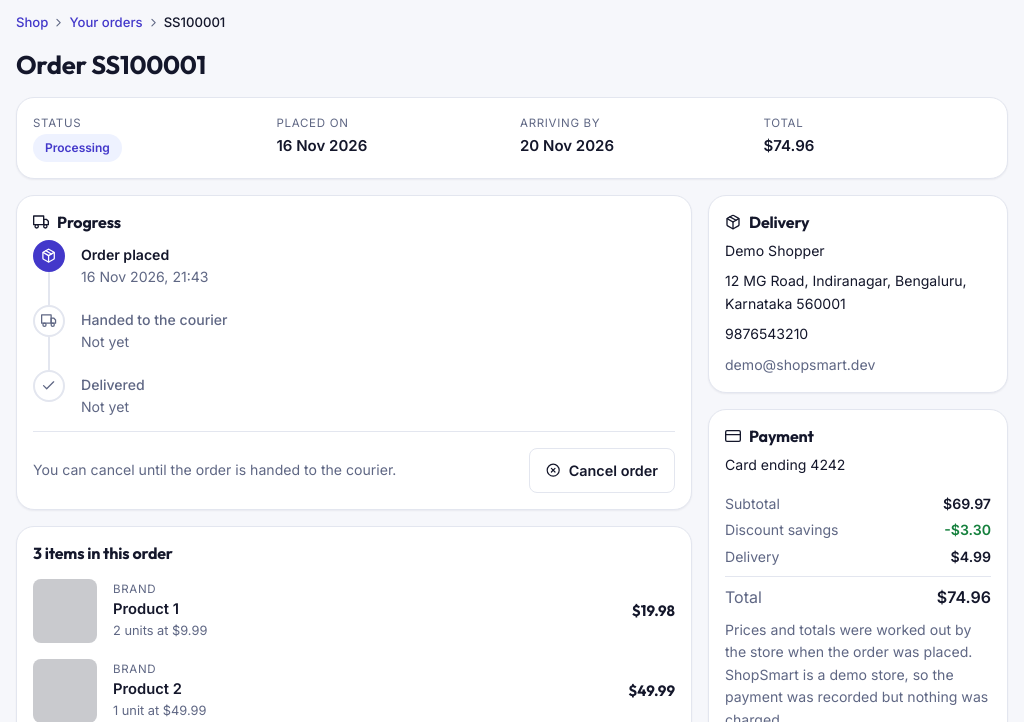
OrderDetails page › shows the order as it is now when it shipped before the cancel arrived
Click the button "Cancel order" at (602, 470), box [529,448,675,493]
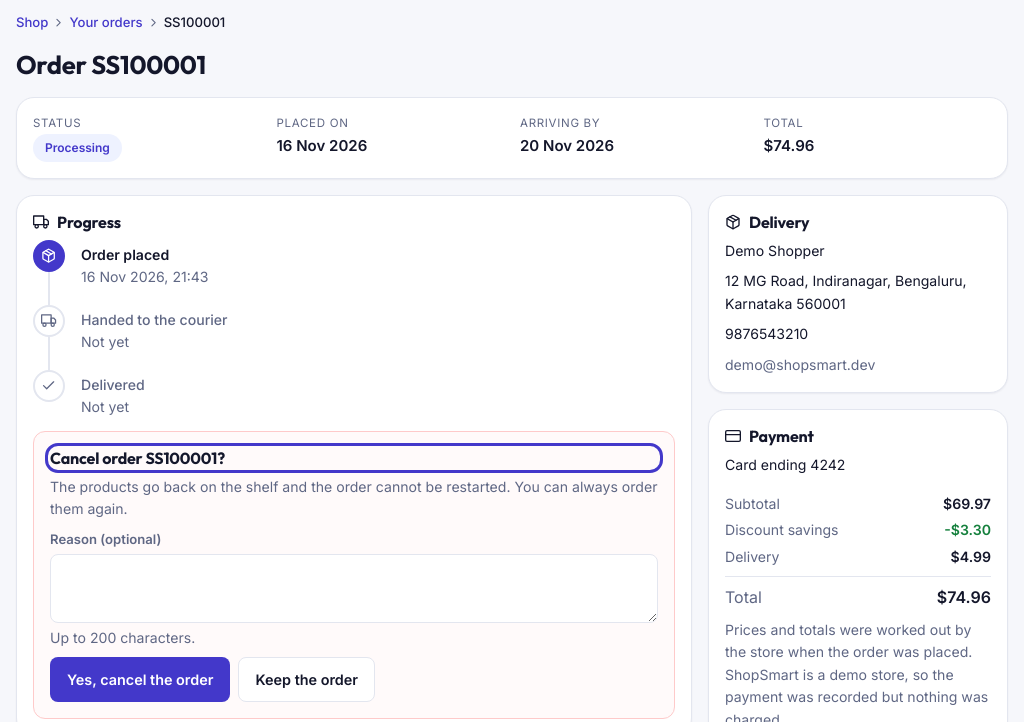
Click the button "Yes, cancel the order" at (140, 680), box [50,657,230,702]
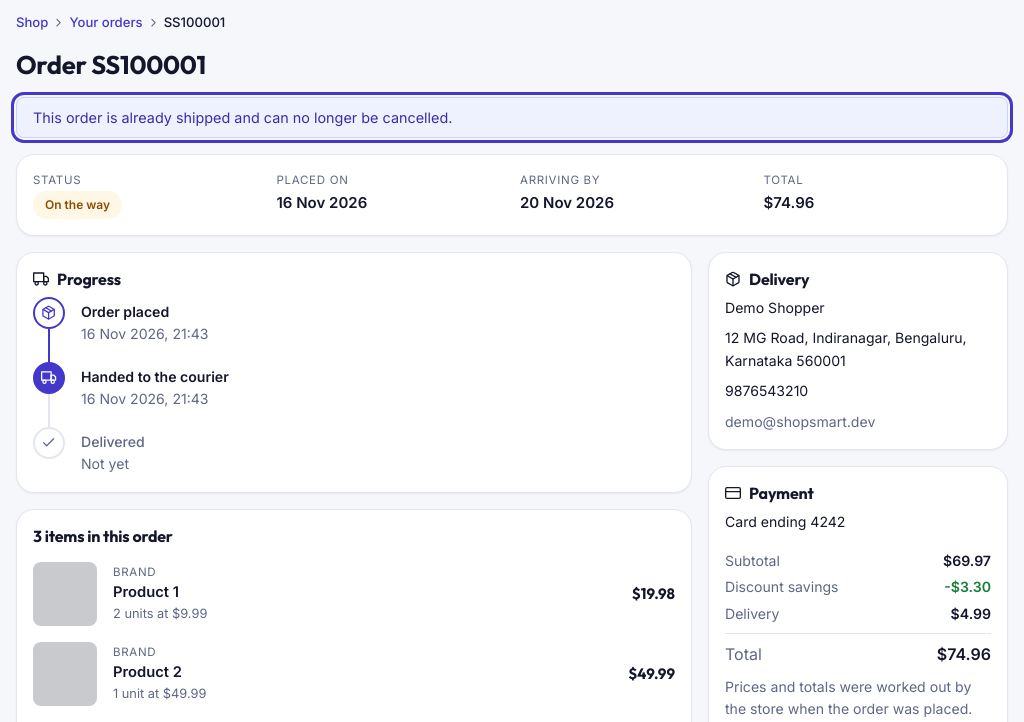
Expected: the text "This order is already shipped and can no longer be cancelled." is shown, [16,97,1008,138]
Expected: the heading "Cancel order" is gone
